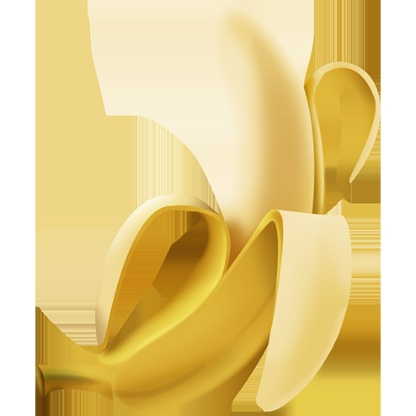chuoi: (68, 0, 363, 401)
